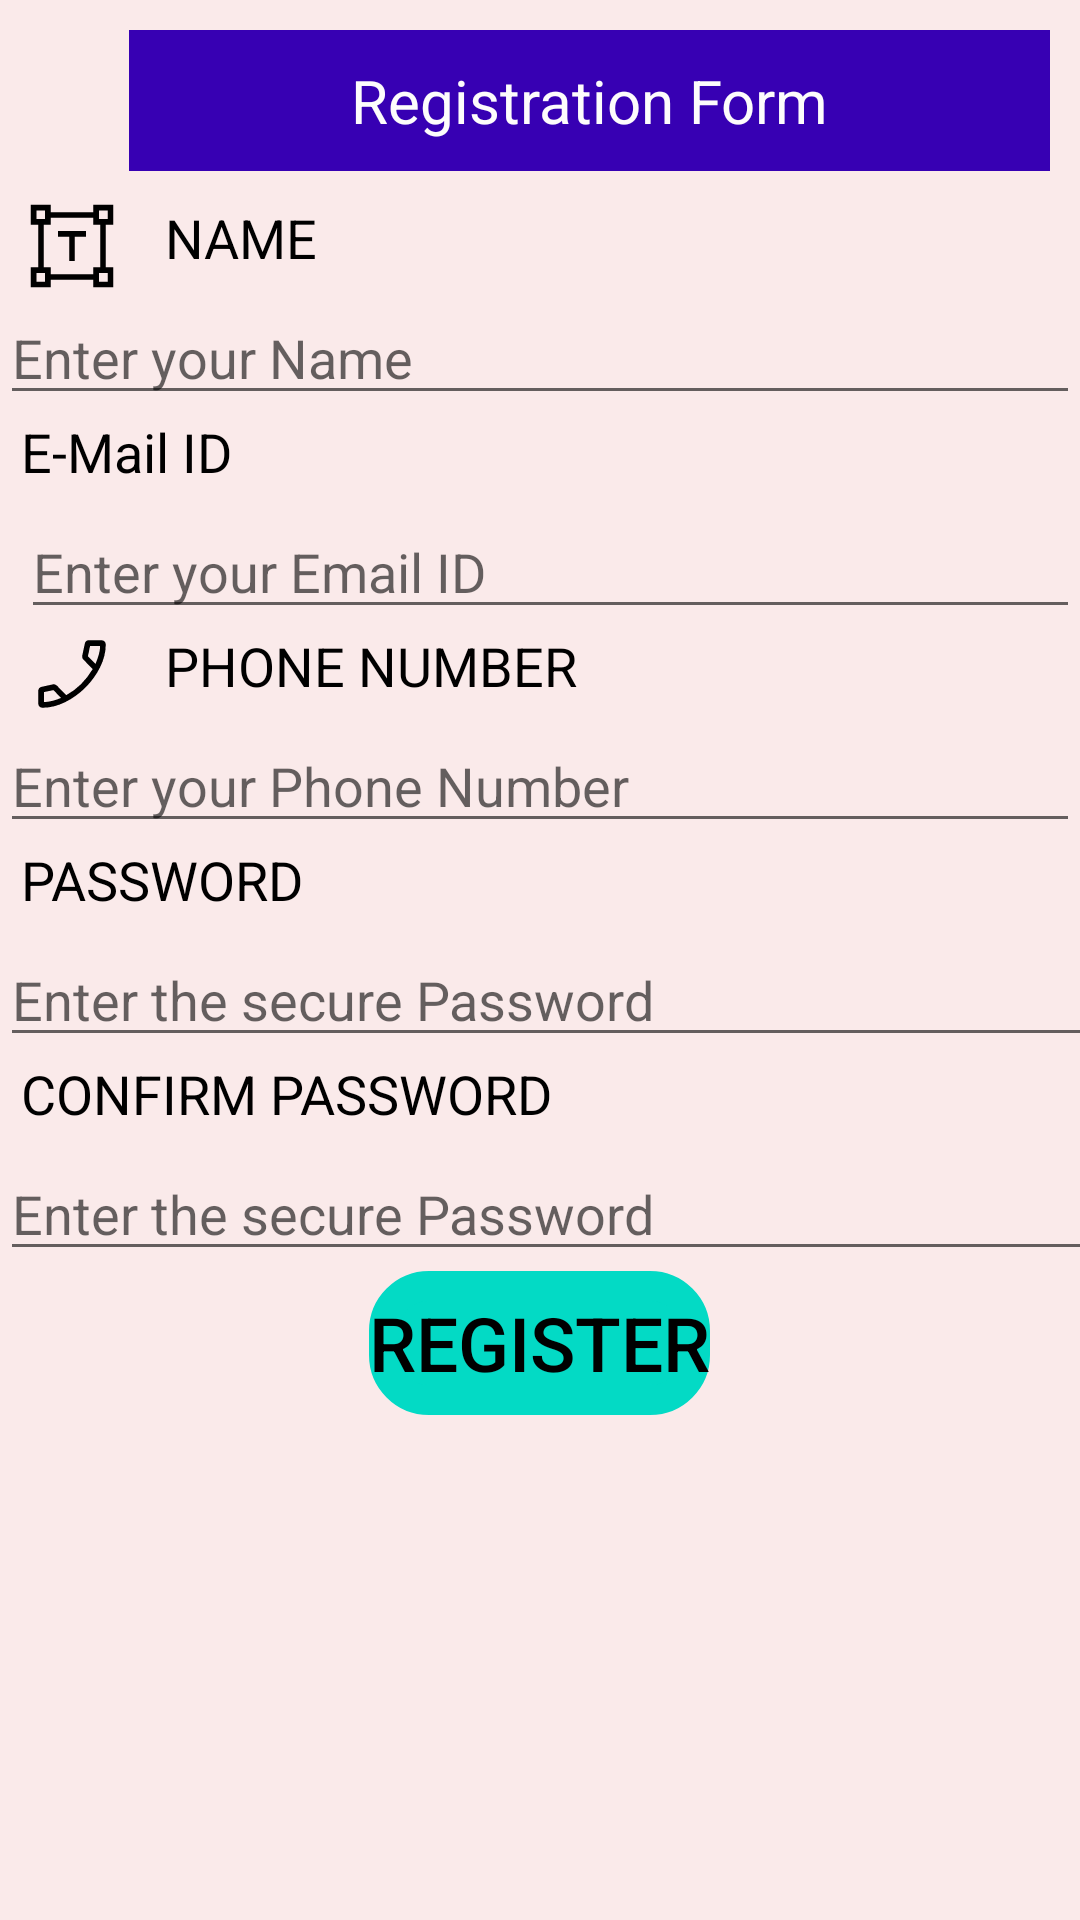

Icons on this 1080x1920 Android screen, each with the point to tap as (x=x, y=y):
insert text: (x=72, y=246)
